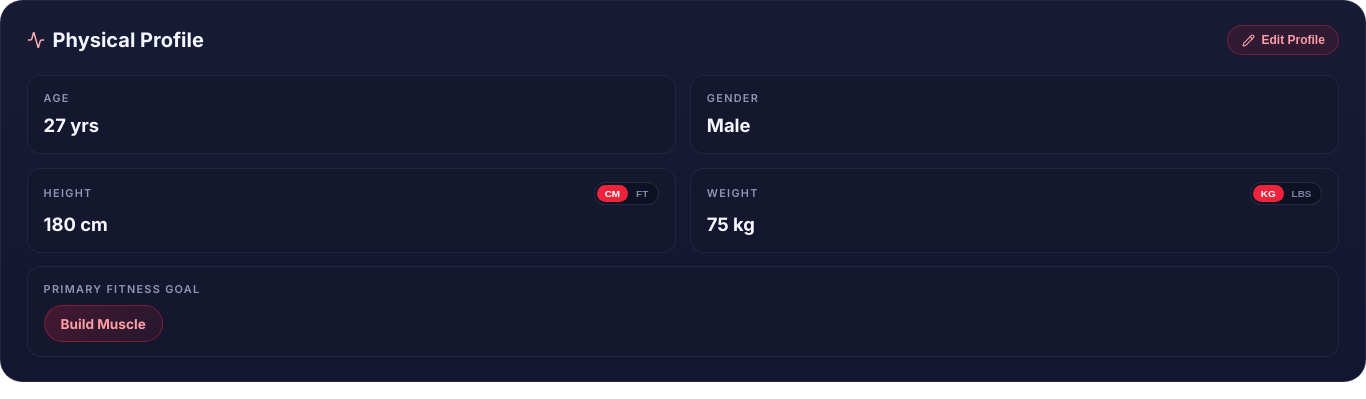
Test: PhysicalProfileCard › toggles unit display between CM and FT in view mode
Expected: the text "180 cm" is shown, x1=44 y1=213 x2=108 y2=235
# Click FT toggle
Click the button "FT". click: click(642, 194)
box: x1=628 y1=185 x2=656 y2=202
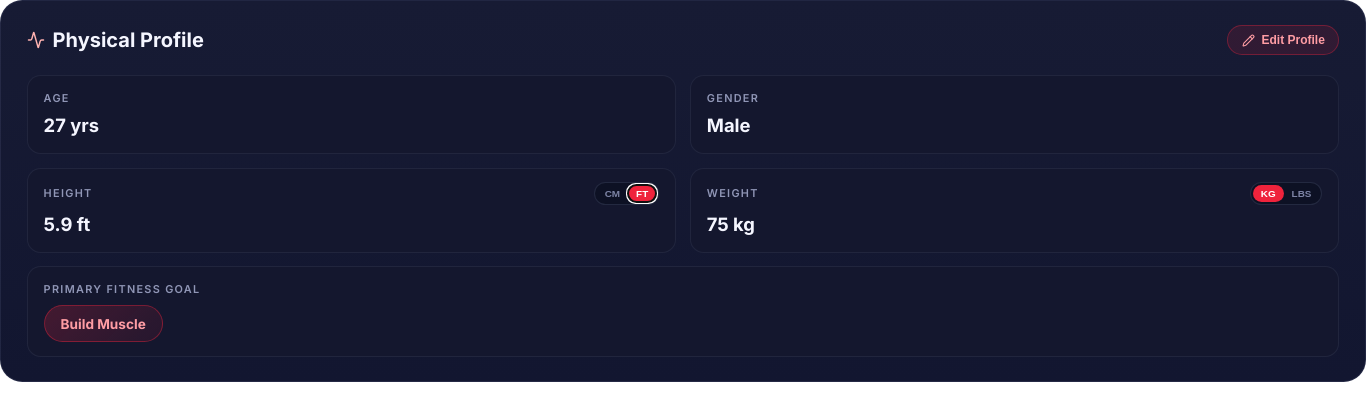
Expected: the text "5.9 ft" is shown, x1=44 y1=213 x2=90 y2=235
